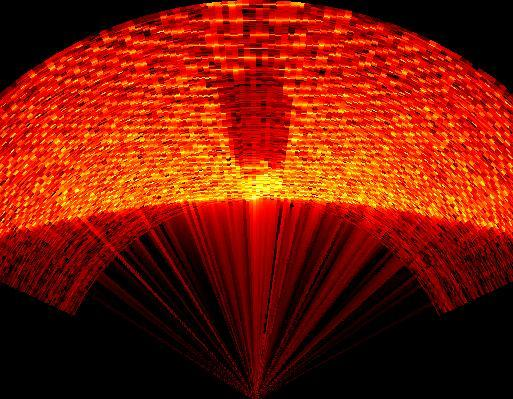box_crate: (215, 61, 300, 200)
